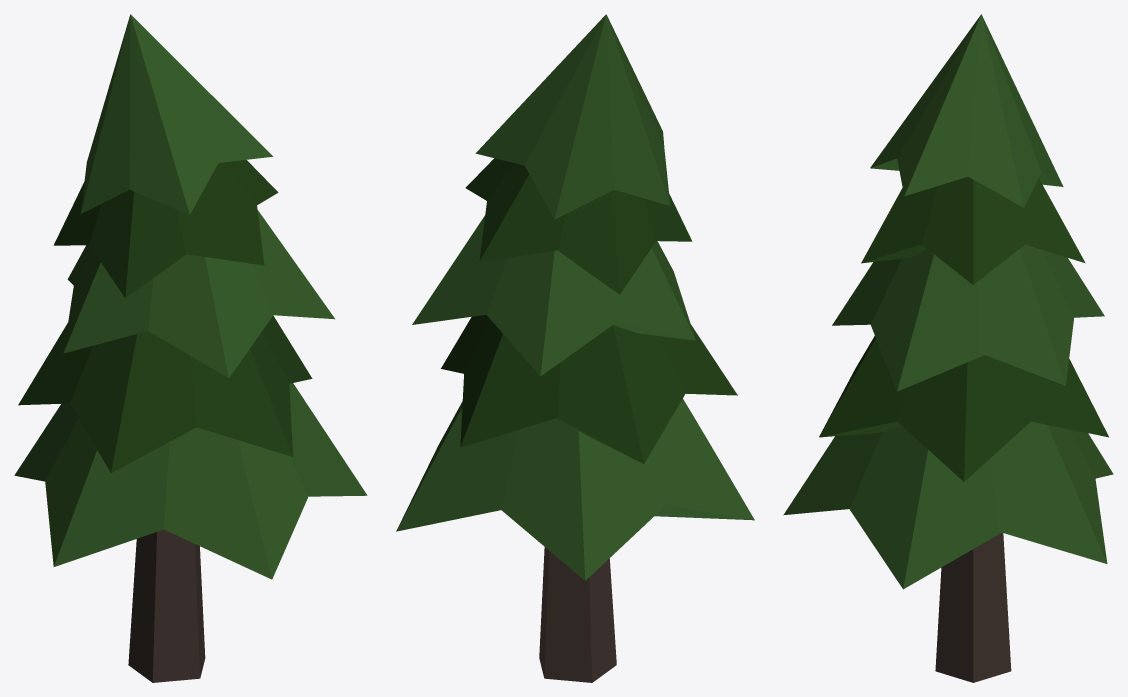
File: _tree_new_3.fbx
3 renders of one model, left to right at view 1: azimuth 30°, elevation 25°; view 2: azimuth 150°, elevation 25°; view 3: azimuth 270°, elevation 25°, orthographic. The views are drawn at different scales.
Parts seen in each view (by area): view 1: leaf.004, leaf.001, leaf.003, leaf, leaf.002, Body; view 2: leaf.004, leaf.001, leaf, leaf.003, leaf.002, Body; view 3: leaf.004, leaf.003, leaf.001, leaf, leaf.002, Body.
Part boxes in pixels (x1,y1,x2,y2): leaf.004: [14, 383, 367, 579]; leaf.001: [18, 315, 312, 472]; leaf.003: [63, 210, 334, 377]; leaf: [80, 14, 272, 214]; leaf.002: [53, 160, 278, 298]; Body: [128, 529, 205, 682]; leaf.004: [396, 398, 754, 580]; leaf.001: [441, 315, 737, 463]; leaf: [475, 14, 670, 219]; leaf.003: [412, 215, 695, 376]; leaf.002: [465, 158, 692, 294]; Body: [539, 547, 616, 682]; leaf.004: [783, 421, 1113, 589]; leaf.003: [832, 244, 1104, 391]; leaf.001: [819, 336, 1108, 481]; leaf: [870, 14, 1063, 207]; leaf.002: [861, 176, 1085, 284]; Body: [935, 532, 1011, 682].
Size of the model in its own units: 720 by 1468 by 692.
